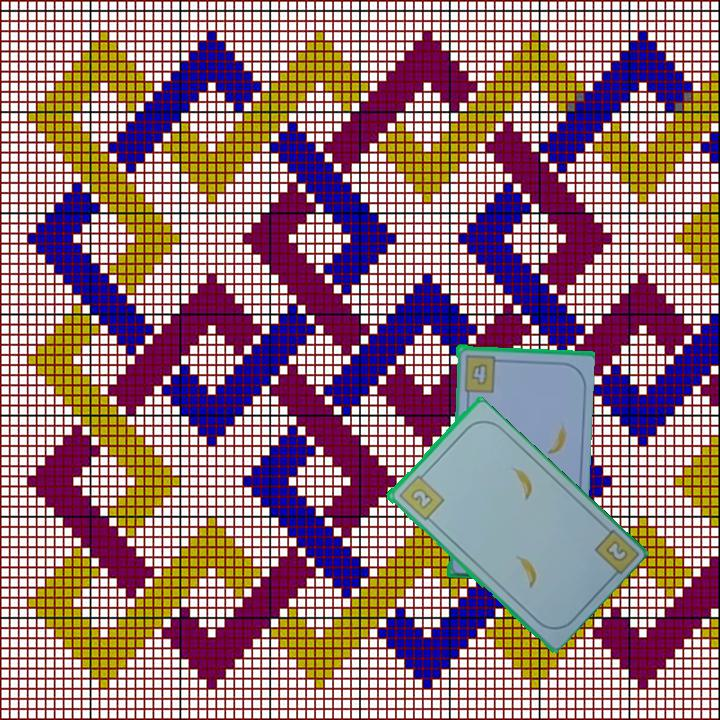2b: (395, 468, 447, 523), (601, 537, 631, 565)
4b: (460, 351, 504, 394)
